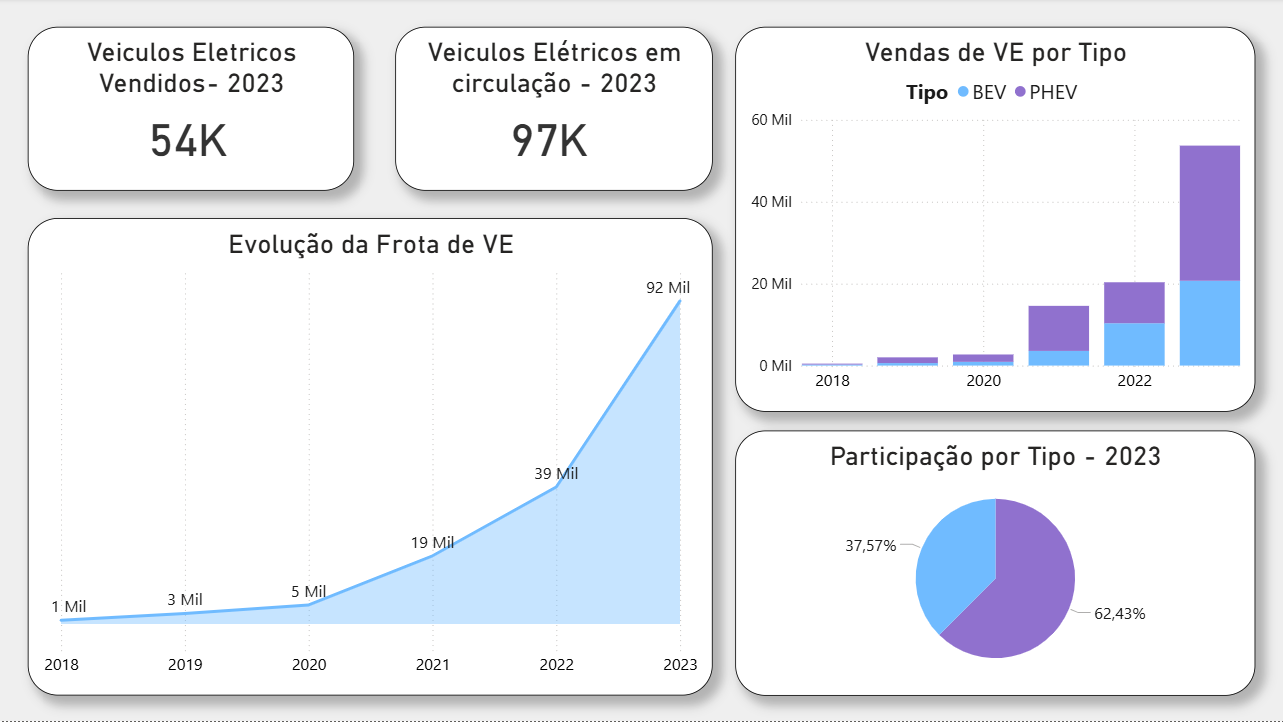

What the dashboard file says about the page in this screenshot:
{"tool":"powerbi","page":{"name":"Página 1","canvas":[1280,720],"ordinal":0},"visuals":[{"type":"advanceCardE03760C5AB684758B56AA29F9E6C257B","title":"Veiculos Eletricos Vendidos- 2023","fields":{"mainMeasure":["Sum(IEA Global EV Data 2024.Valor)"]},"box":[28.6,28.6,324.7,163],"z":0},{"type":"stackedAreaChart","title":"Evolução da Frota de VE","fields":{"Category":["IEA Global EV Data 2024.Ano"],"Series":["IEA Global EV Data 2024.Categoria"],"Y":["Sum(IEA Global EV Data 2024.Valor)"]},"box":[28.6,218.4,682,475.4],"z":1000},{"type":"columnChart","title":"Vendas de VE por Tipo","fields":{"Category":["IEA Global EV Data 2024.Ano"],"Y":["Sum(IEA Global EV Data 2024.Valor)"],"Series":["IEA Global EV Data 2024.Tipo"]},"box":[732.4,28.6,517.4,383],"z":2000},{"type":"advanceCardE03760C5AB684758B56AA29F9E6C257B","title":"Veiculos Elétricos em circulação - 2023","fields":{"mainMeasure":["Sum(IEA Global EV Data 2024.Valor)"]},"box":[394.8,28.6,315.8,162.9],"z":3000},{"type":"pieChart","title":"Participação por Tipo - 2023","fields":{"Category":["IEA Global EV Data 2024.Tipo"],"Y":["Sum(IEA Global EV Data 2024.Valor)"]},"box":[732.4,430,517.4,263.7],"z":4000}]}

Visuals, with their boxes in screenshot pixels (x1, y1, x2, y2), scaled from the page's 1280x720 canvas onto the 1283x722 screenshot:
"Veiculos Eletricos Vendidos- 2023" advanceCardE03760C5AB684758B56AA29F9E6C257B: region(29, 29, 354, 192)
"Evolução da Frota de VE" stackedAreaChart: region(29, 219, 712, 696)
"Vendas de VE por Tipo" columnChart: region(734, 29, 1253, 413)
"Veiculos Elétricos em circulação - 2023" advanceCardE03760C5AB684758B56AA29F9E6C257B: region(396, 29, 712, 192)
"Participação por Tipo - 2023" pieChart: region(734, 431, 1253, 696)
